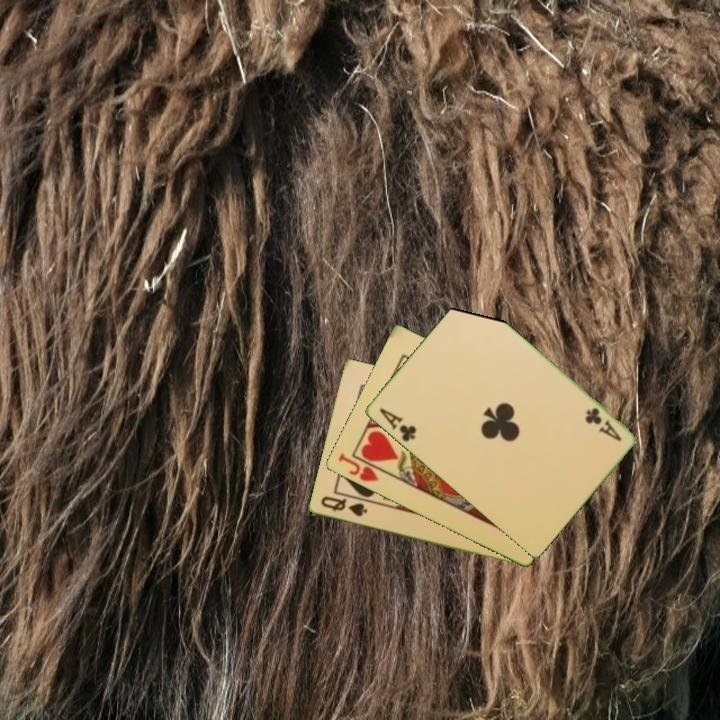Ac: (581, 404, 624, 445), (375, 405, 419, 445)
Jh: (334, 450, 381, 485)
Qs: (317, 493, 370, 520)
